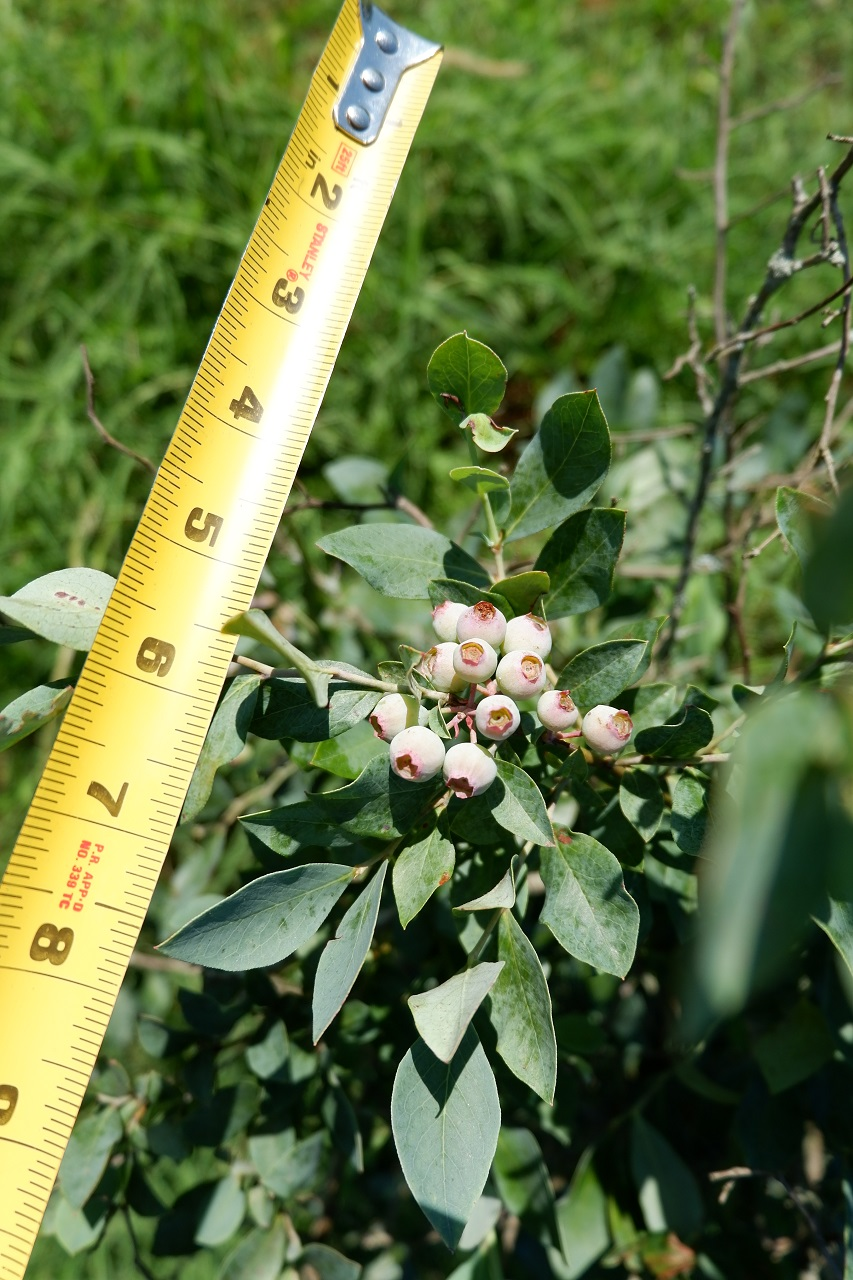Immature: (389, 726, 446, 783), (442, 743, 498, 800), (370, 694, 430, 745), (500, 611, 552, 664), (581, 705, 634, 756), (496, 650, 547, 702), (456, 602, 507, 650), (422, 643, 470, 694), (453, 639, 497, 684), (476, 696, 520, 741), (537, 690, 579, 733), (431, 601, 469, 645)
